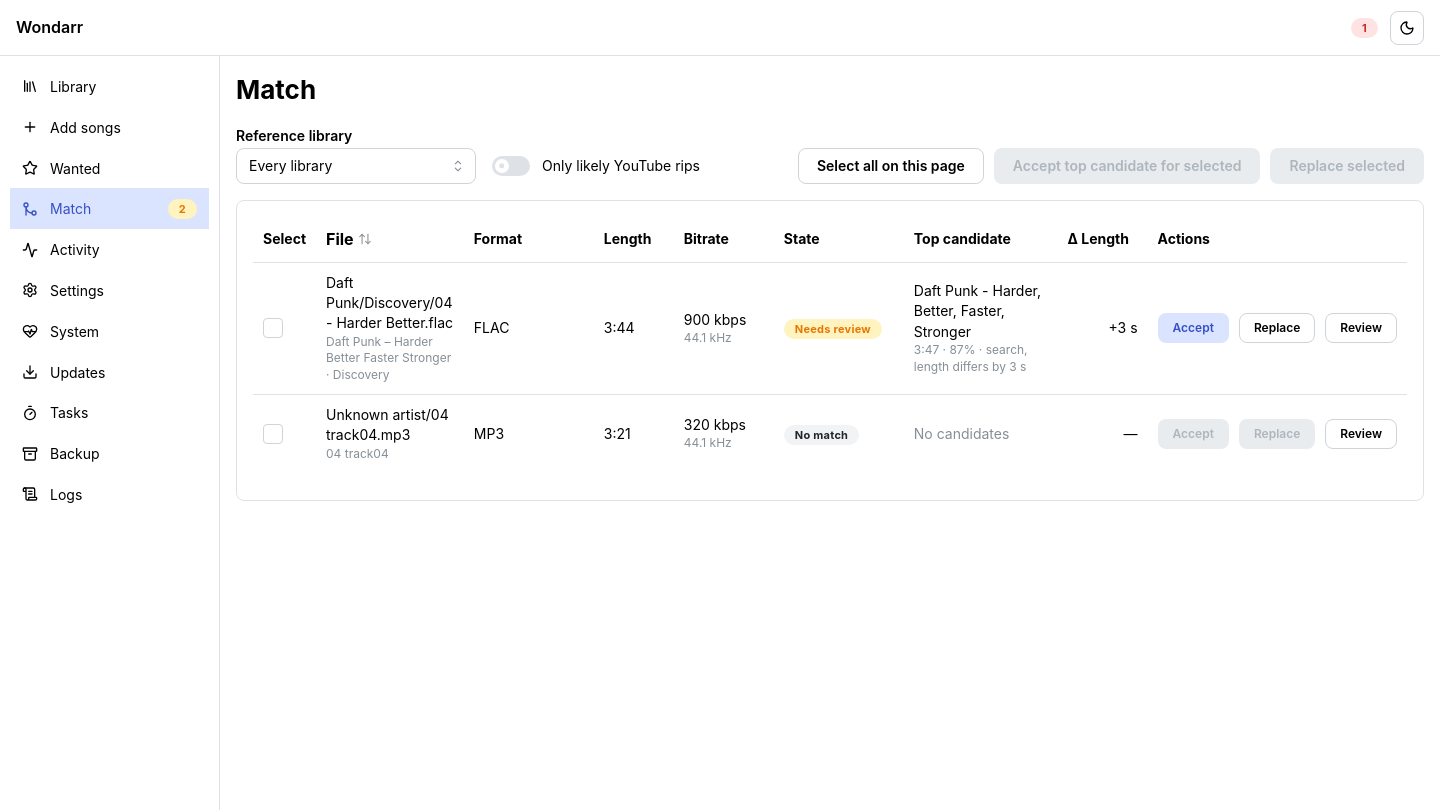
MatchQueuePage › accepts the top candidate for every selected row and reports what happened
Click the button "Select all on this page" at (891, 166), box [798,148,984,184]
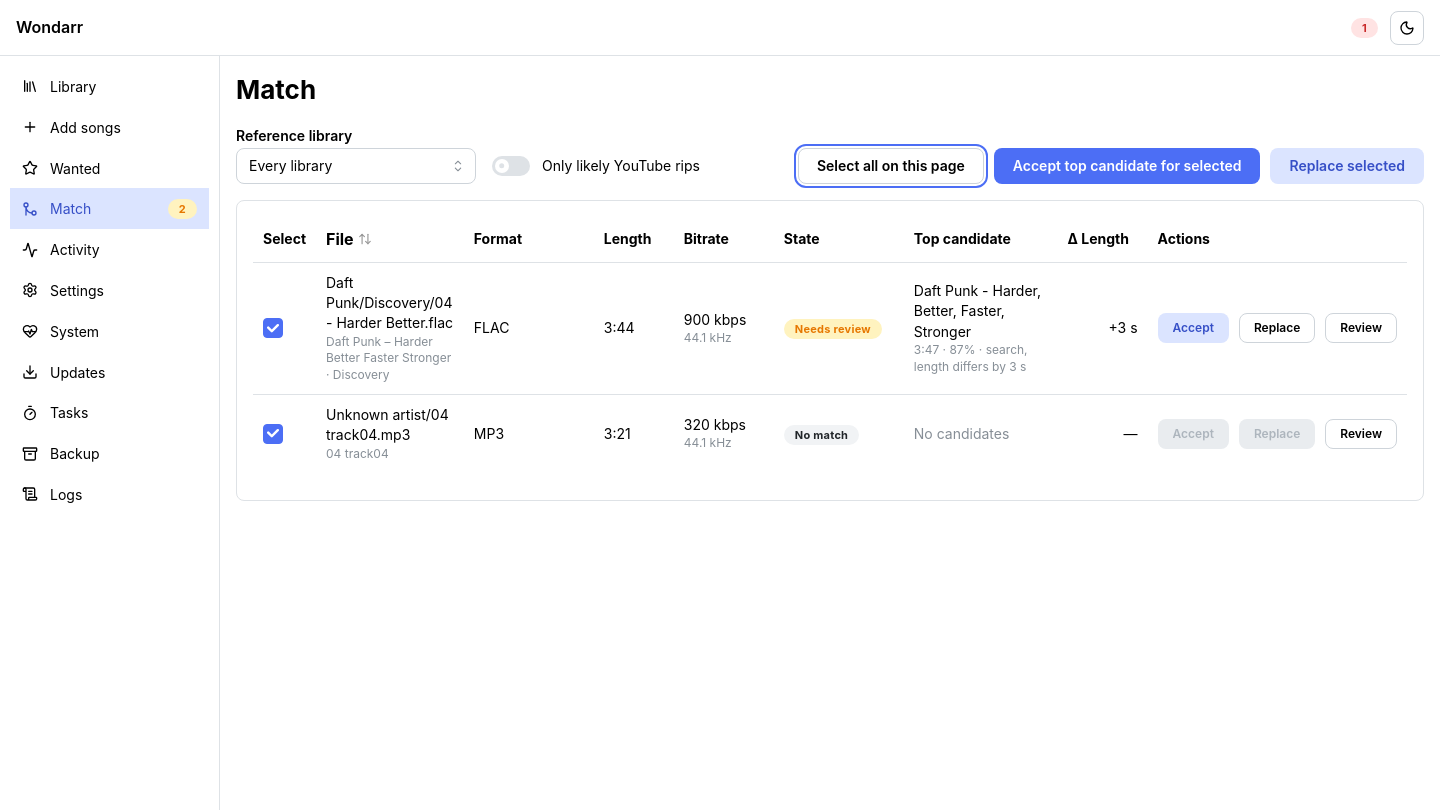
Click the button "Accept top candidate for selected" at (1127, 166), box [994,148,1260,184]
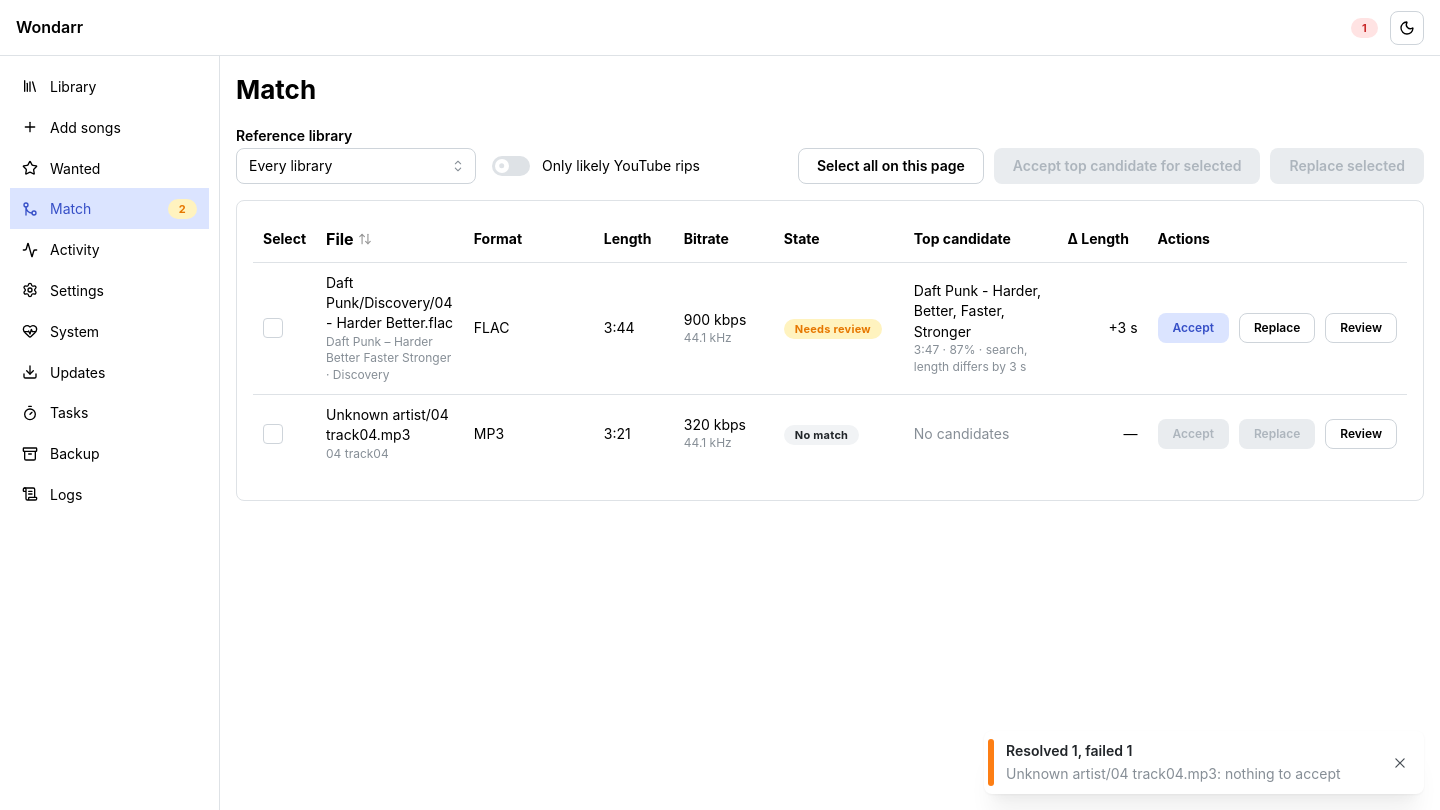
Expected: the text "Resolved 1, failed 1" is shown, [1006,742,1132,759]
Expected: the text "Unknown artist/04 track04.mp3: nothing to accept" is shown, [1006,764,1376,784]
